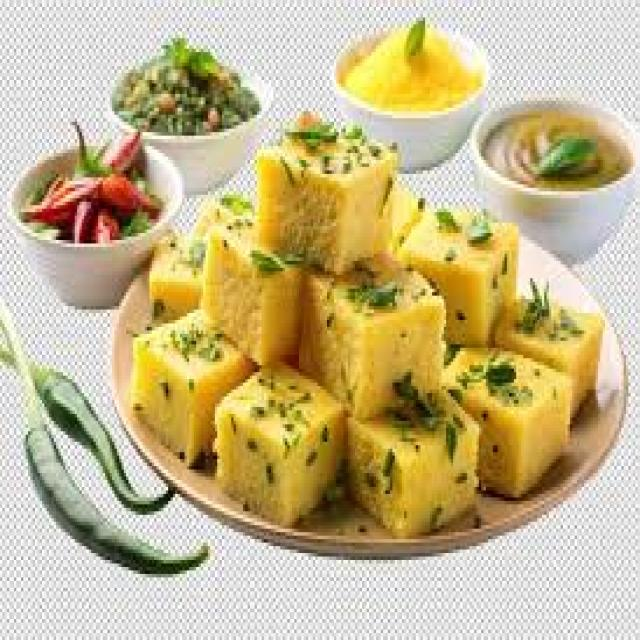DHOKLA: (307, 249, 485, 534), (301, 246, 448, 411), (212, 363, 351, 527), (131, 305, 262, 476), (261, 112, 396, 270), (446, 341, 576, 500), (401, 202, 521, 358), (490, 292, 606, 443), (211, 214, 306, 373), (147, 183, 256, 321)
